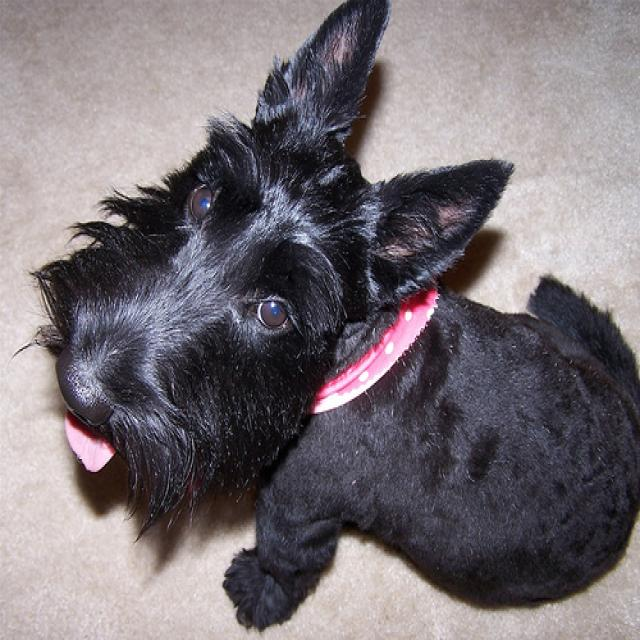dog-scottish_terrier: (36, 2, 637, 637)
